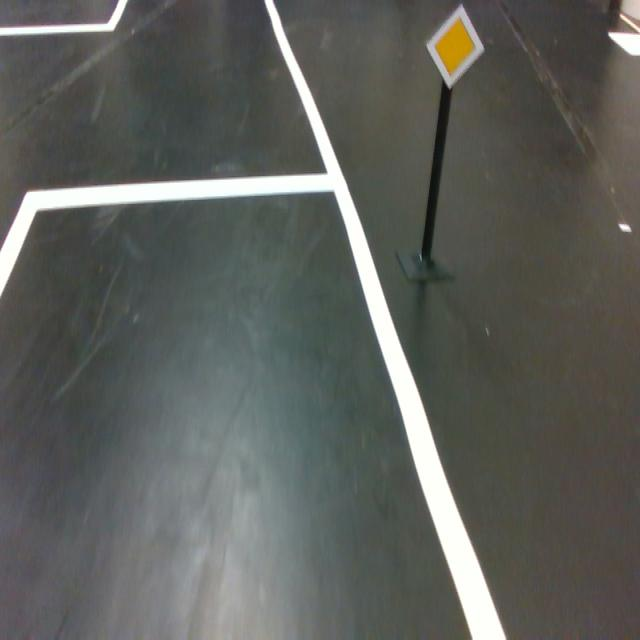priority-sign: (425, 5, 485, 90)
